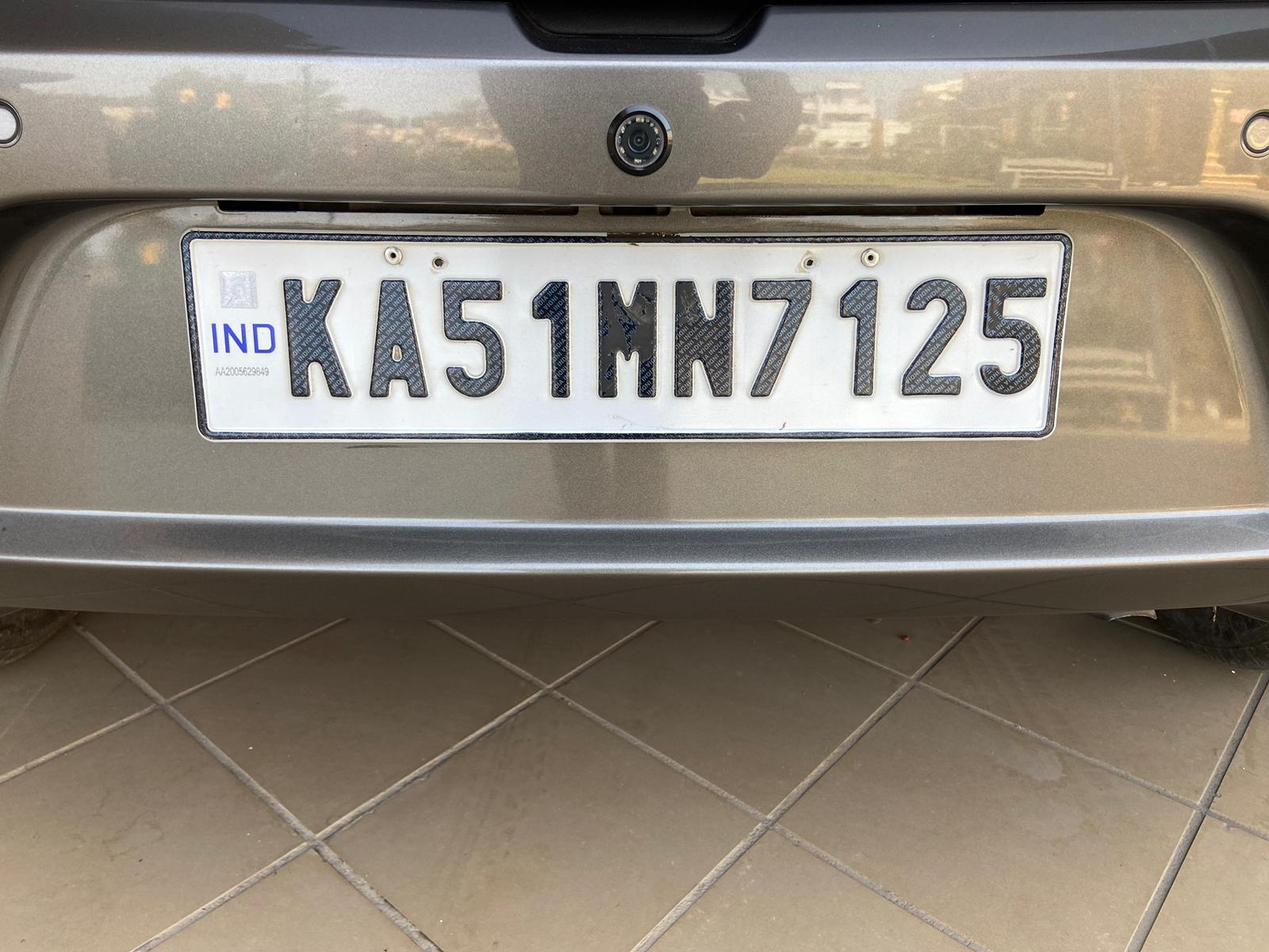1: (520, 268, 586, 413), (821, 274, 884, 413)
2: (901, 268, 973, 410)
5: (427, 266, 521, 406), (982, 266, 1051, 398)
7: (742, 266, 819, 408)
A: (359, 262, 439, 406)
K: (272, 268, 352, 406)
M: (589, 272, 670, 400)
N: (663, 272, 751, 403)
